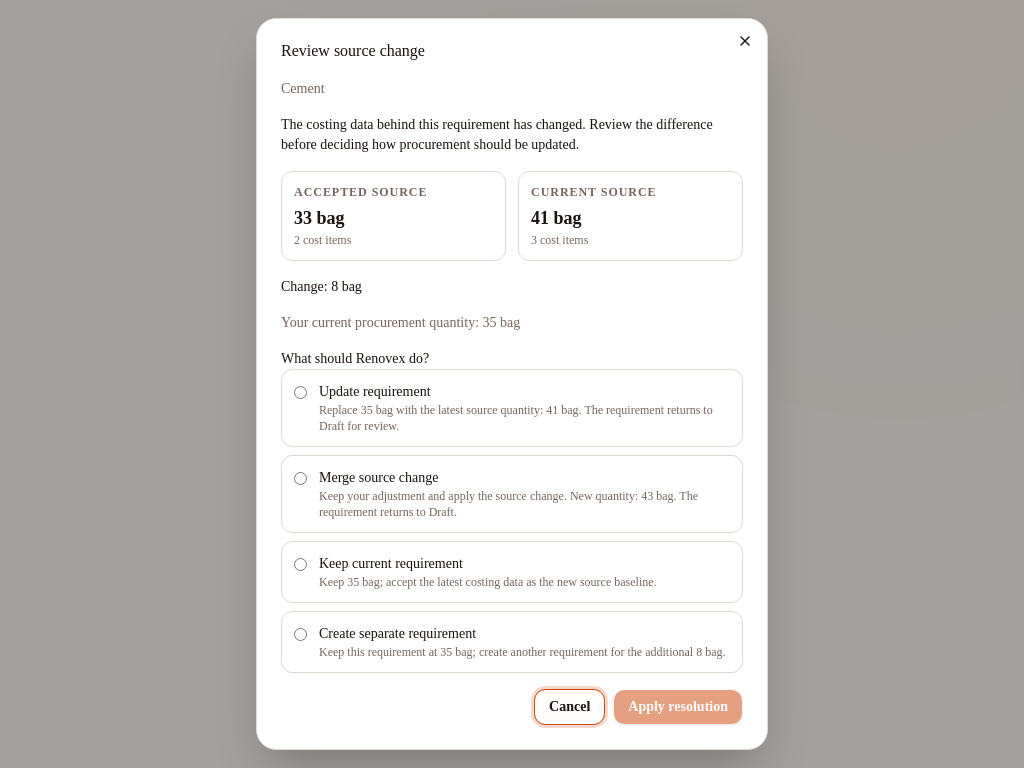
ResolveDiscrepancyDialog › on ErrResolutionOperationConflict, does not silently retry and shows the translated message
Click the radio button labelled "Create separate requirement": point(300, 634) x1=294 y1=628 x2=307 y2=641
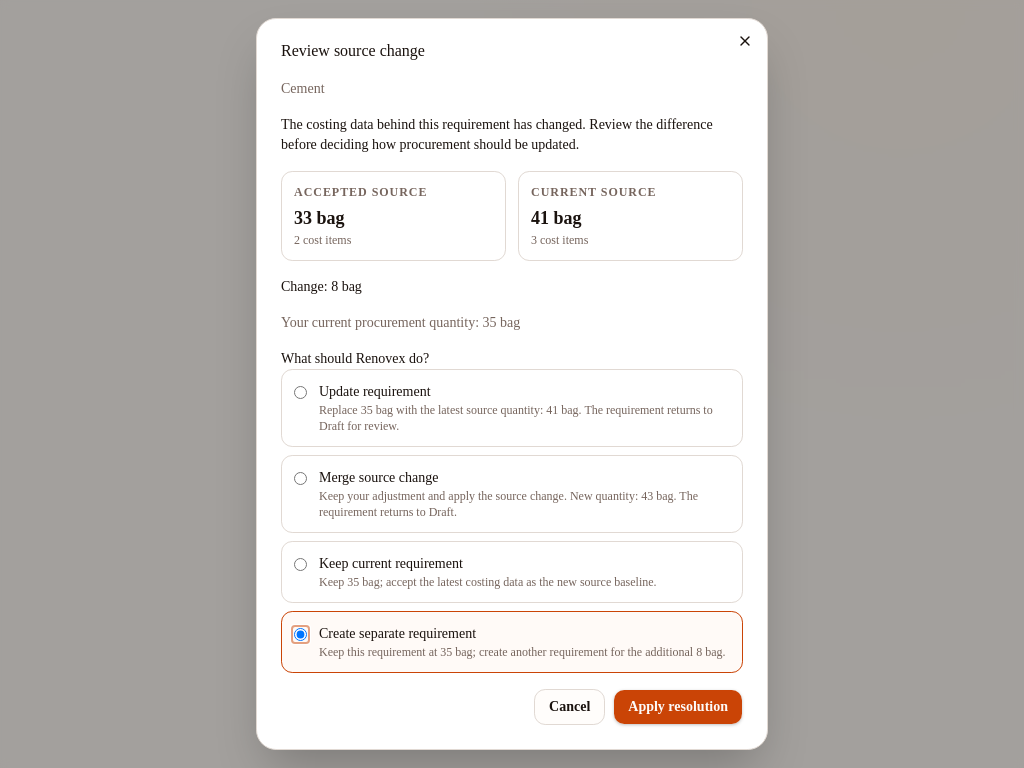
Click the button "Apply resolution": point(678, 707) x1=613 y1=689 x2=743 y2=725
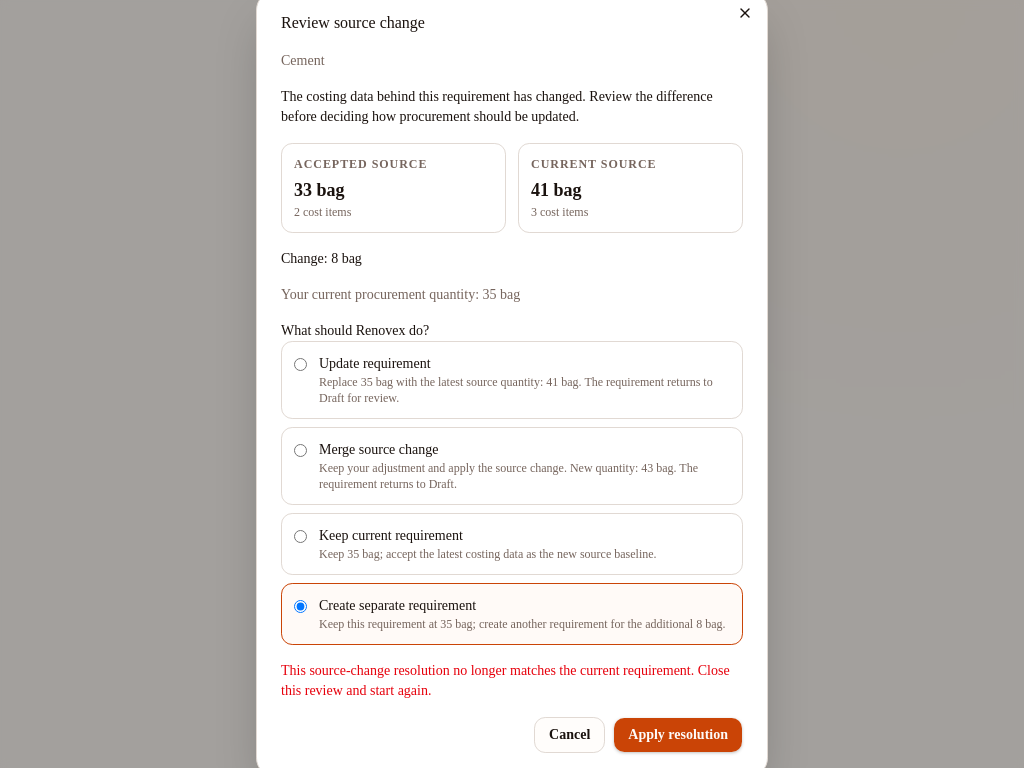
Expected: the text "close this review and start again" is shown, x1=281 y1=663 x2=730 y2=698
